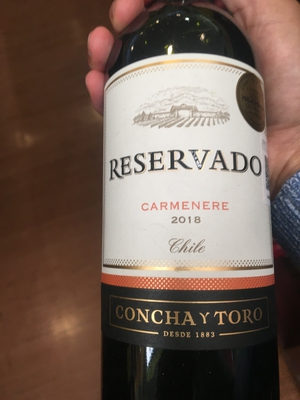reservado carmenere: (93, 22, 275, 400)
